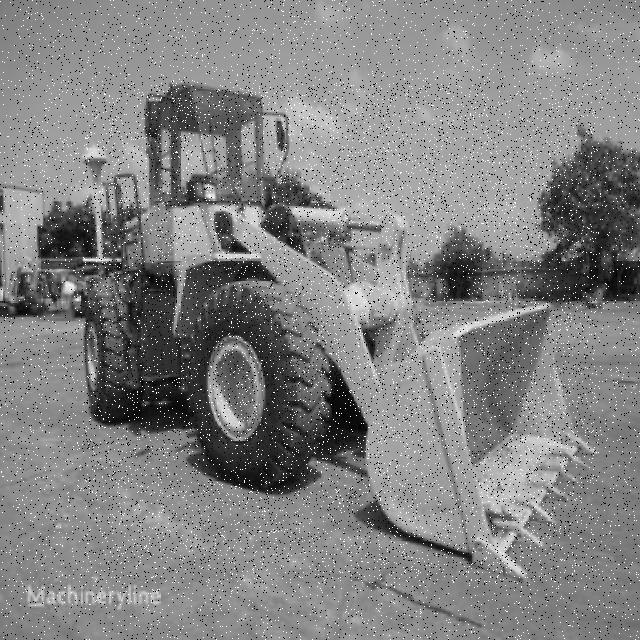Construction Equipment: (83, 83, 596, 583)
